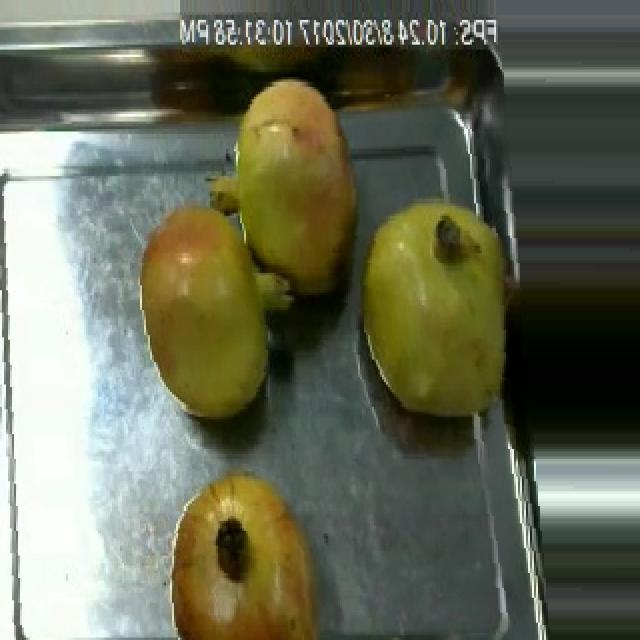fruit: (344, 184, 526, 436), (124, 171, 294, 437), (190, 70, 372, 318), (150, 454, 338, 640)
